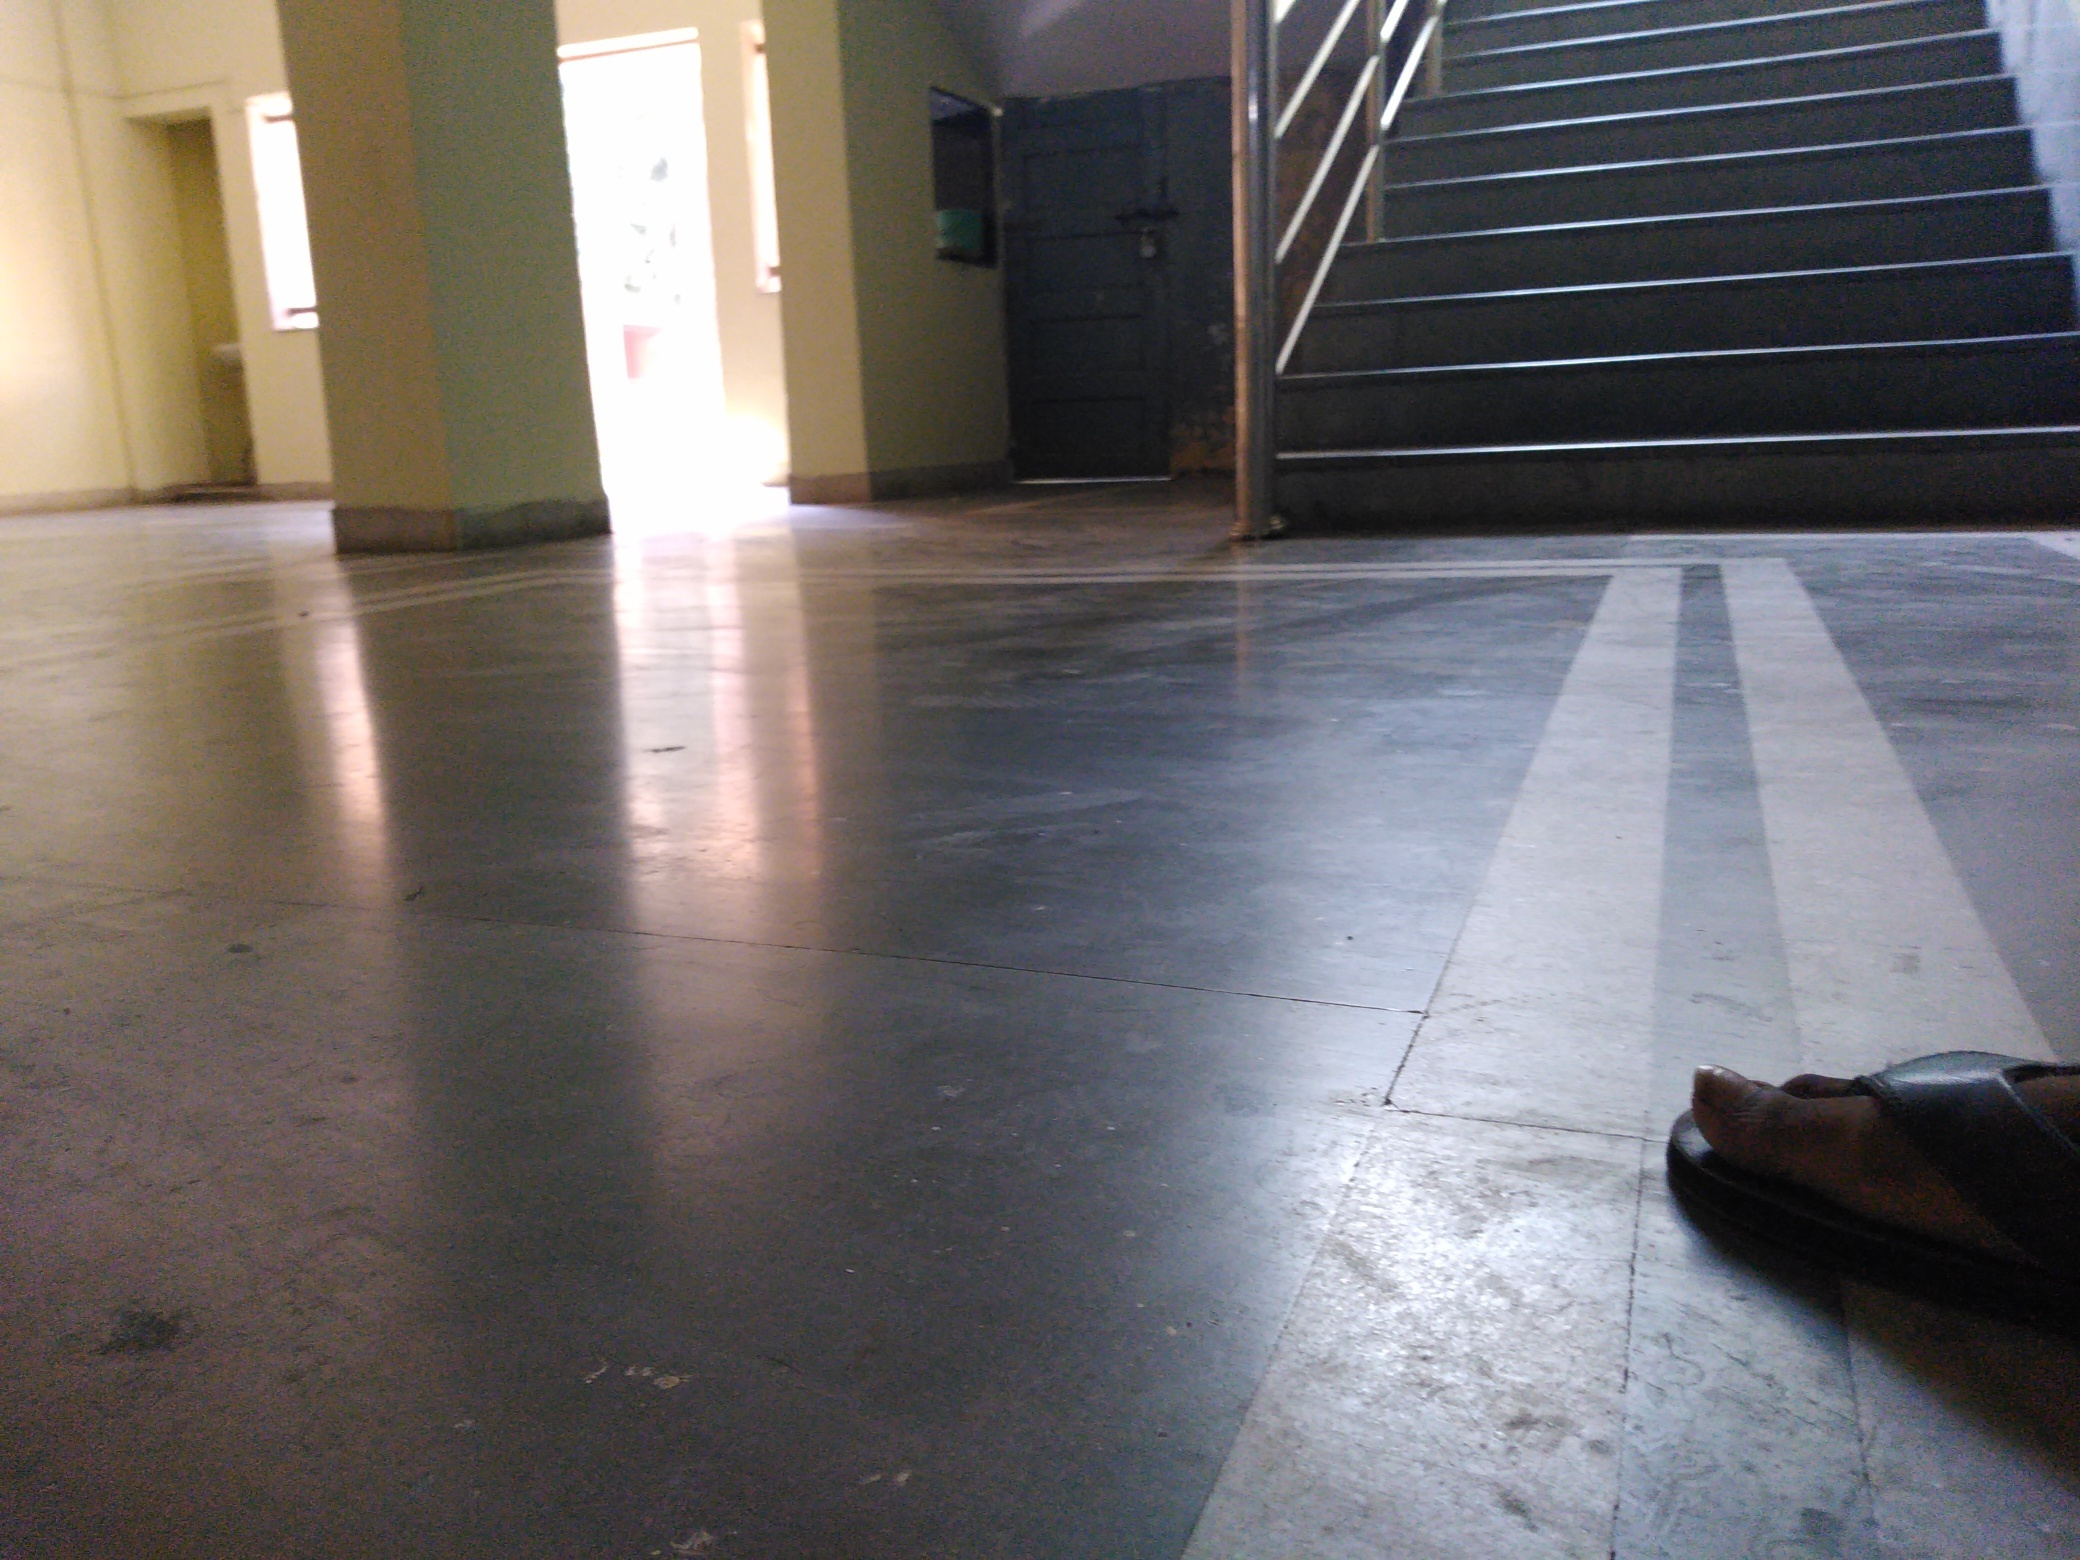stairs_up: (1274, 11, 2072, 539)
